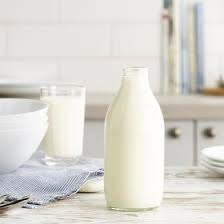milk: (106, 59, 178, 212), (35, 75, 95, 162)
